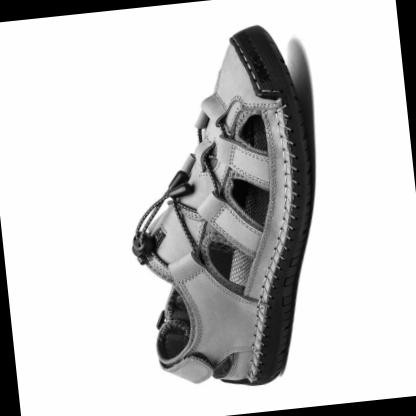ankle: (194, 311, 205, 324)
heel: (262, 360, 275, 375)
left_foot: (116, 21, 338, 396)
pinky: (273, 108, 287, 126)
toe: (232, 38, 244, 53)
